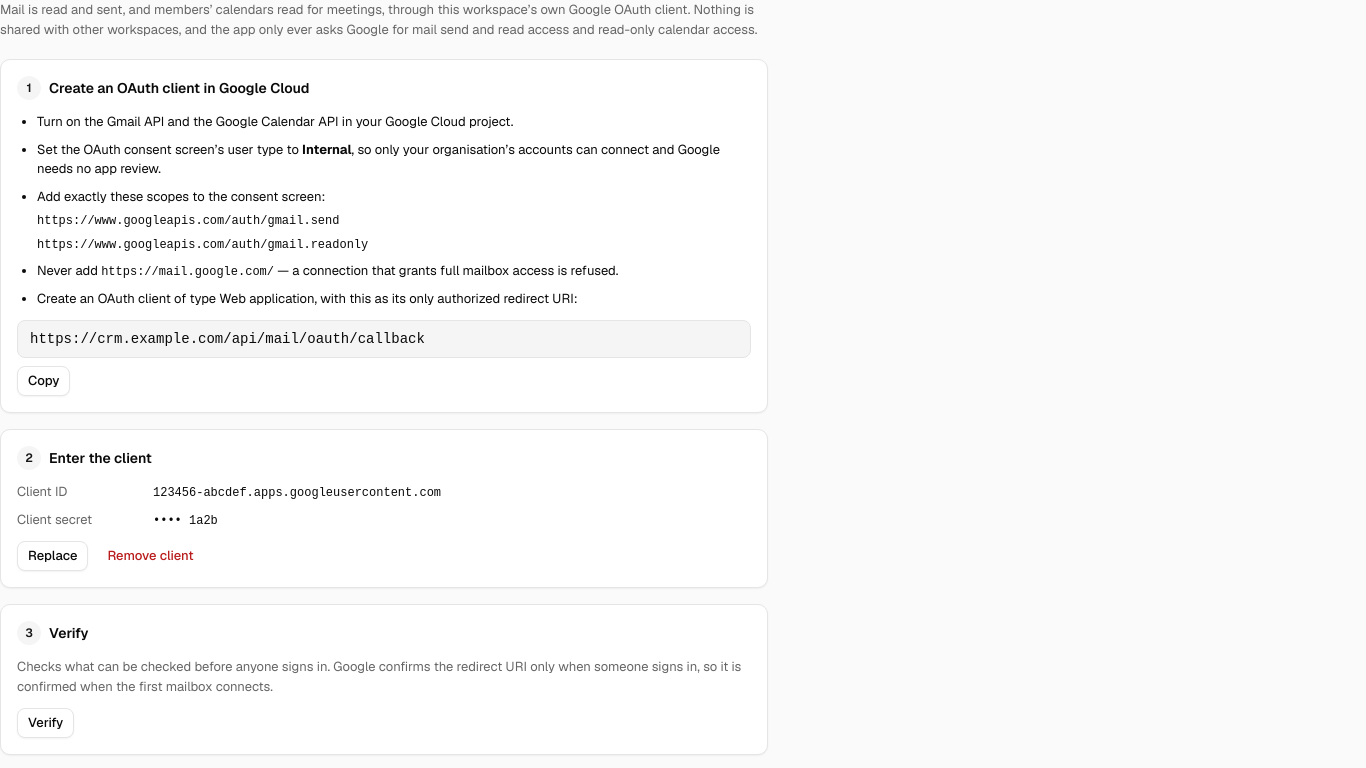
it: FR-CRMS-1: an admin sets up the workspace’s own Google OAuth client (doc 50 §E) › shows the server’s refusal when the client still has connected mailboxes
Click the button "Remove client" at (151, 556), box [96,541,205,571]
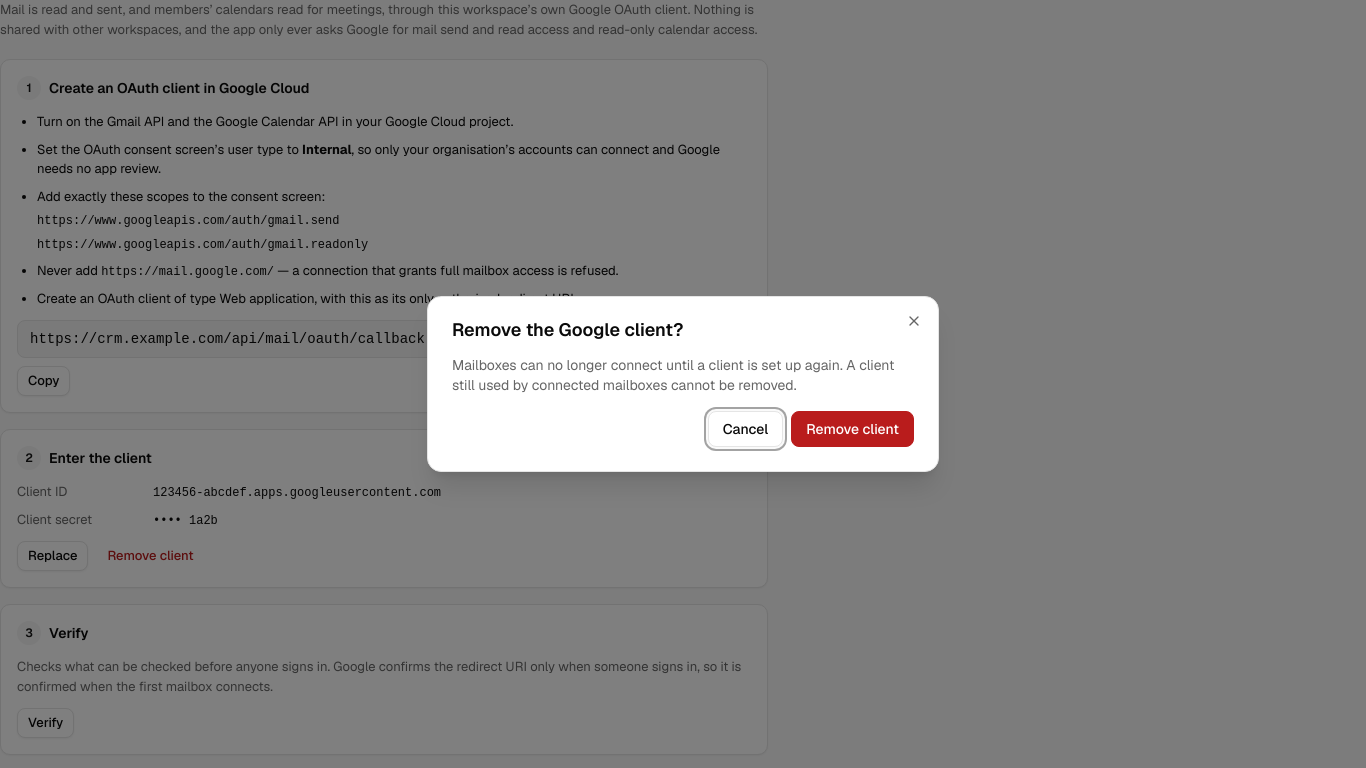
Click the button "Remove client" at (853, 429), box [791,411,914,447]
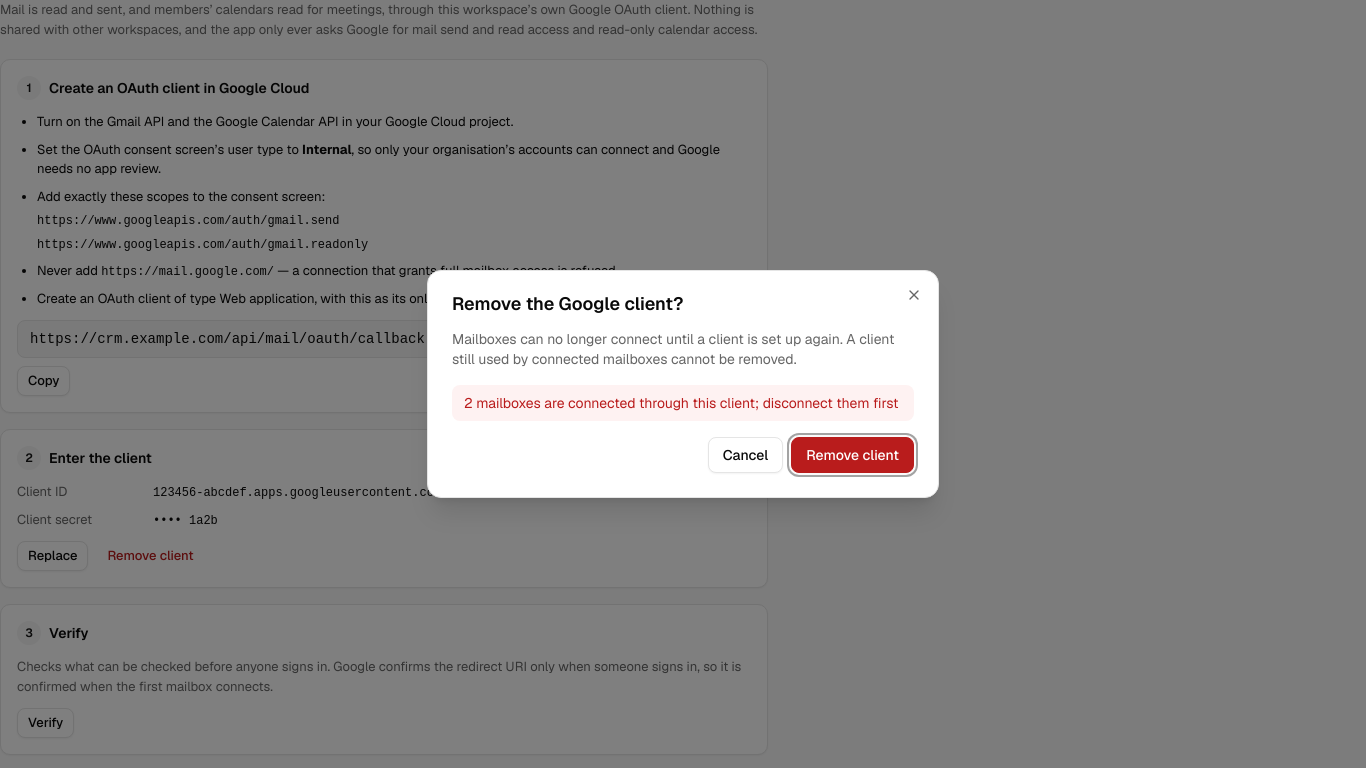
Expected: the message shows "2 mailboxes are connected", [464,394,899,412]
